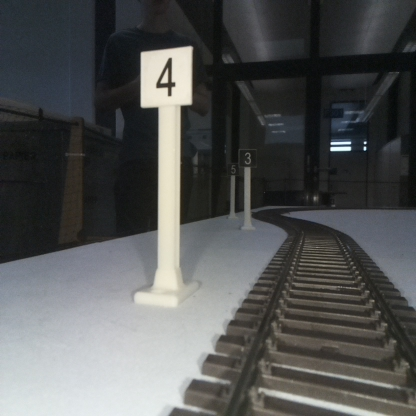black-info-3: (239, 149, 256, 229)
white-info-4: (141, 47, 191, 303)
